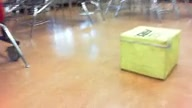cube: (119, 25, 182, 81)
